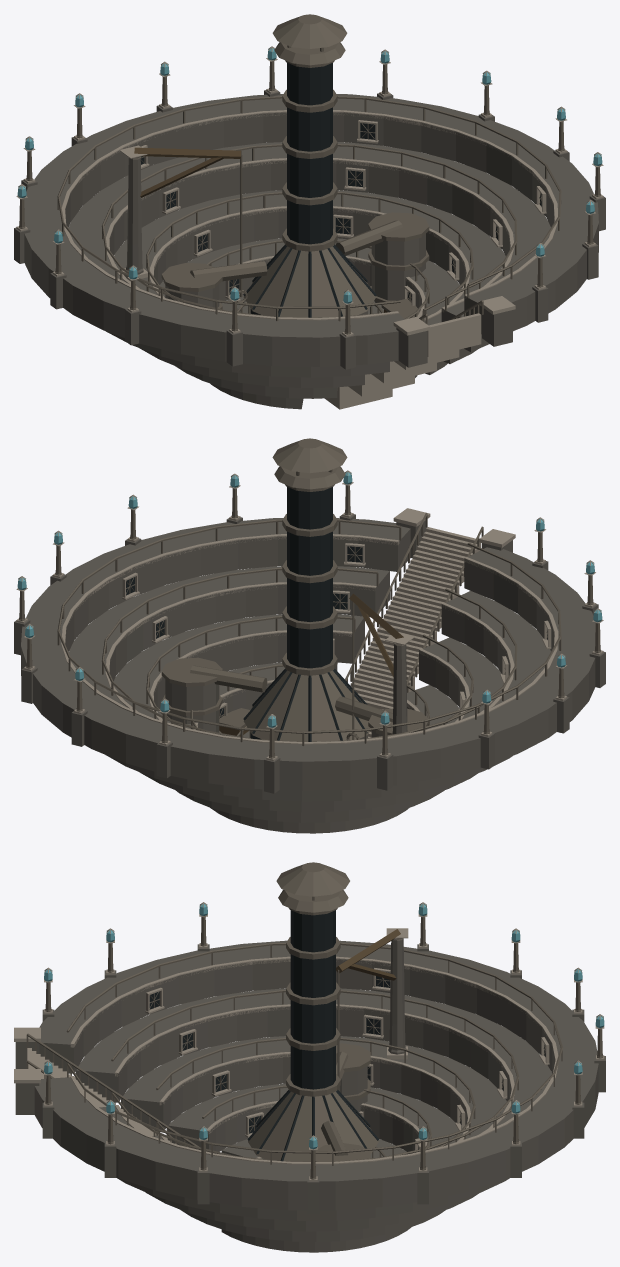
The model's file is forge-hollow.glb.
3 views of the same model, one above another, from view 1: azimuth 30°, elevation 25°; view 2: azimuth 150°, elevation 25°; view 3: azimuth 270°, elevation 25° (orthographic).
Visible parts, largest first — view 1: quarried-bowl, great-forge, gallery-rings, lamp-rim, great-forge-roof; view 2: quarried-bowl, great-forge, gallery-rings, lamp-rim, great-forge-roof; view 3: quarried-bowl, great-forge, gallery-rings, lamp-rim, great-forge-roof.
Part boxes in pixels (<box>): quarried-bowl: <box>24,94,598,409</box>; great-forge: <box>161,45,429,318</box>; gallery-rings: <box>57,96,561,409</box>; lamp-rim: <box>14,46,605,369</box>; great-forge-roof: <box>272,14,347,65</box>; quarried-bowl: <box>21,518,595,833</box>; great-forge: <box>161,469,429,741</box>; gallery-rings: <box>57,513,561,745</box>; lamp-rim: <box>14,470,605,793</box>; great-forge-roof: <box>272,438,347,489</box>; quarried-bowl: <box>34,940,598,1252</box>; great-forge: <box>247,896,378,1161</box>; gallery-rings: <box>26,928,562,1165</box>; lamp-rim: <box>14,902,605,1213</box>; great-forge-roof: <box>276,862,349,912</box>.
Size of the model in its own units: 34.8 by 22.5 by 35.2.
